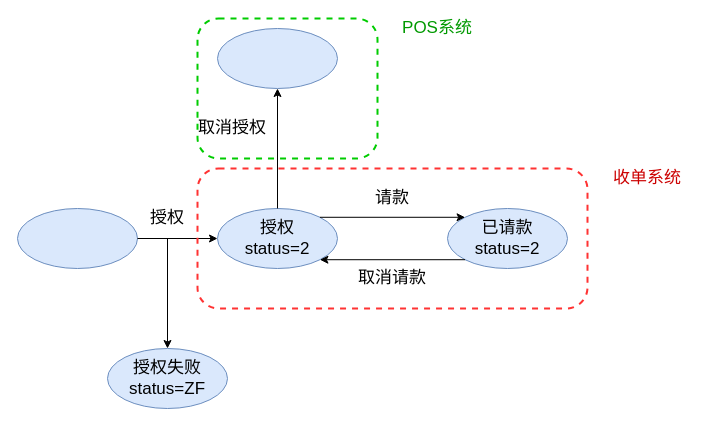
Image size: 715x426. Some labels were removed from this diagram. Here are the shapes that lost their labels. From the top down, the box of each, then its label:
(216, 28, 338, 88): 订单取消 status=12
(16, 208, 138, 268): 收到订单
